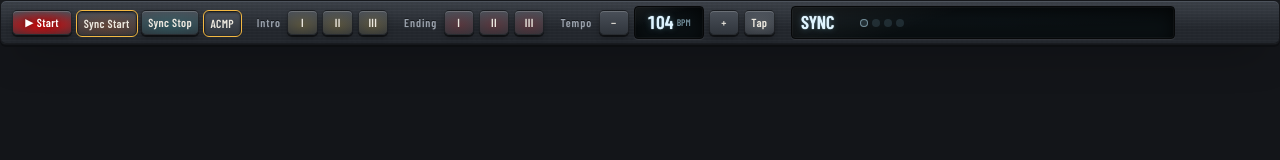
transport section › tempo − / + step by 1 BPM and the readout shows whole BPM
Click the button "+" at [724, 23], box [709,10,739,35]
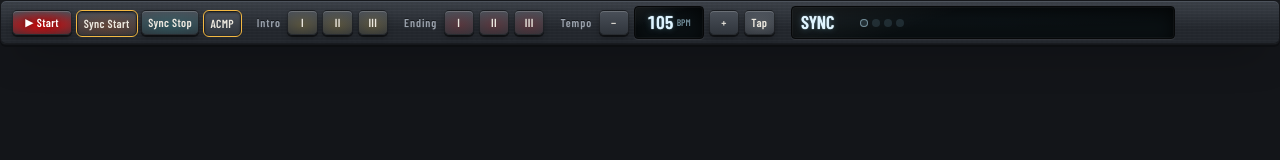
Click the button "−" at [614, 23], box [598,10,629,35]
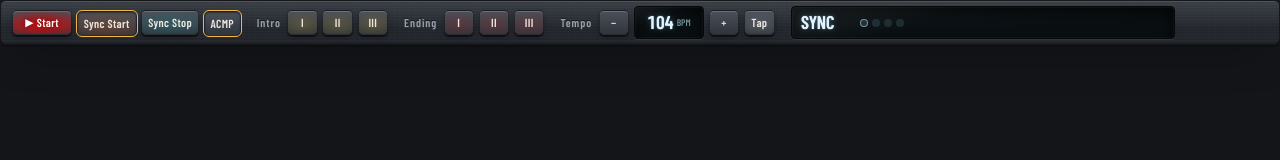
Click the button "−" at [614, 23], box [598,10,629,35]
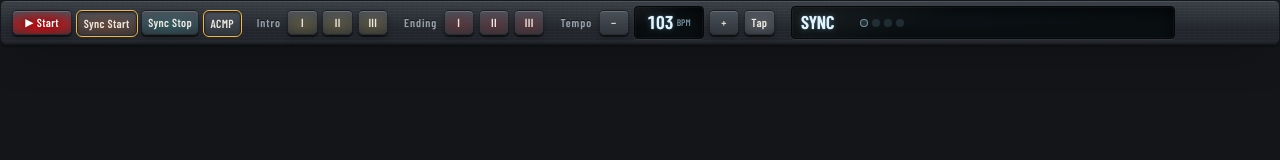
Expected: the button "Tap" is shown, [744,10,774,35]
Expected: the element showing "103 BPM" is shown, [634,6,704,39]
